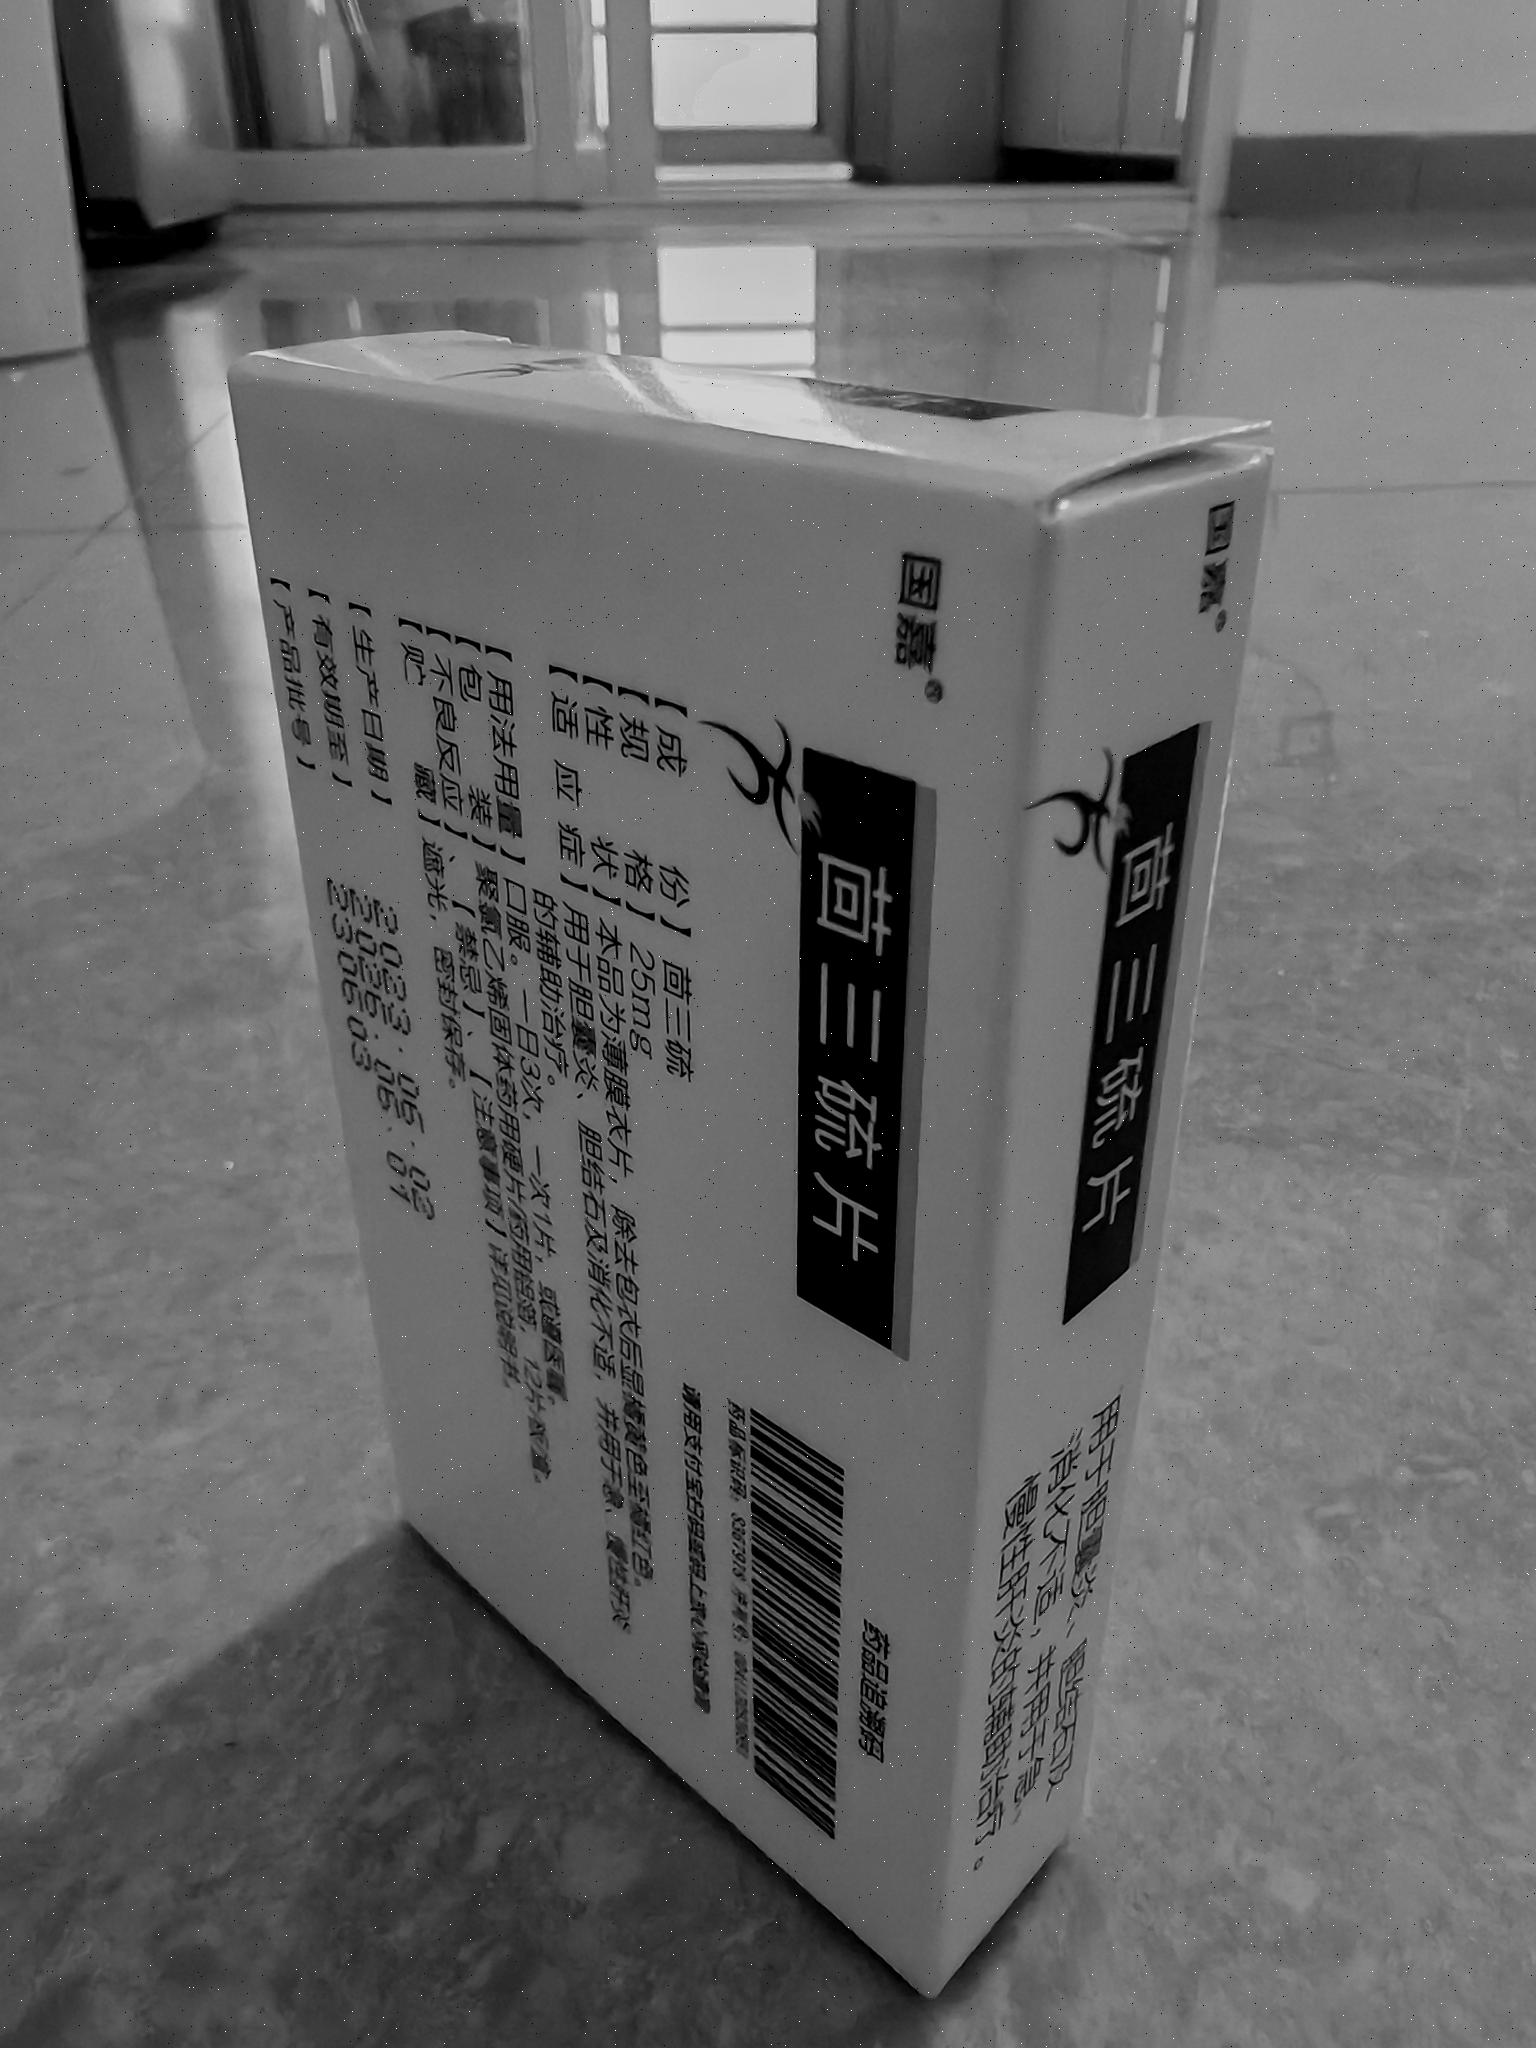Medicine4: (207, 297, 1297, 2014)
